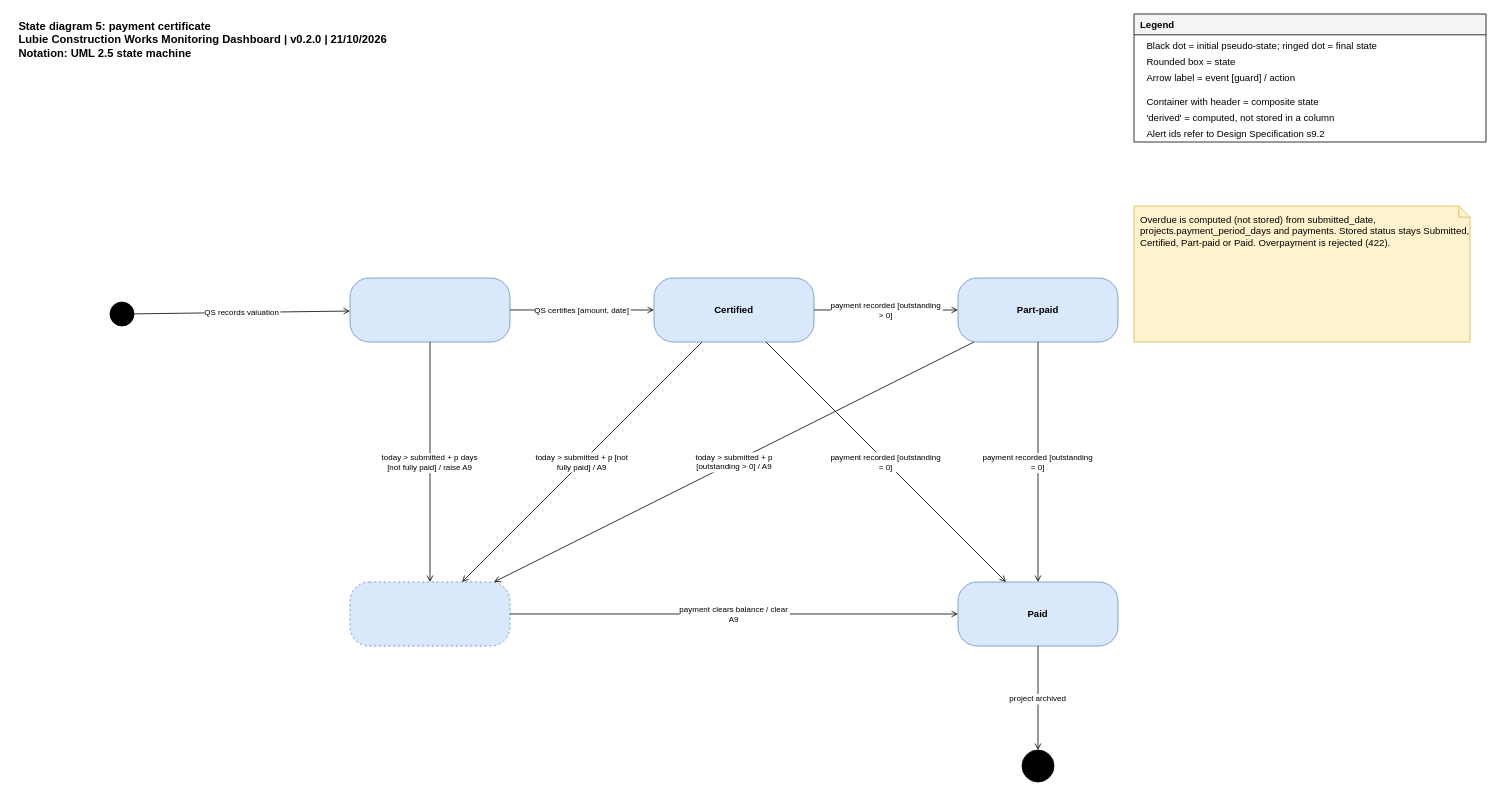
Some shapes in this 1500 by 796 pixel diagram are drawn without their labels. The shapes that lost their labels are listed below. From the top down, each one's box as (x1, y1, x2, y2) in pixels, then its label:
(349, 277, 510, 342): Submitted
(349, 581, 510, 646): Overdue (derived)
